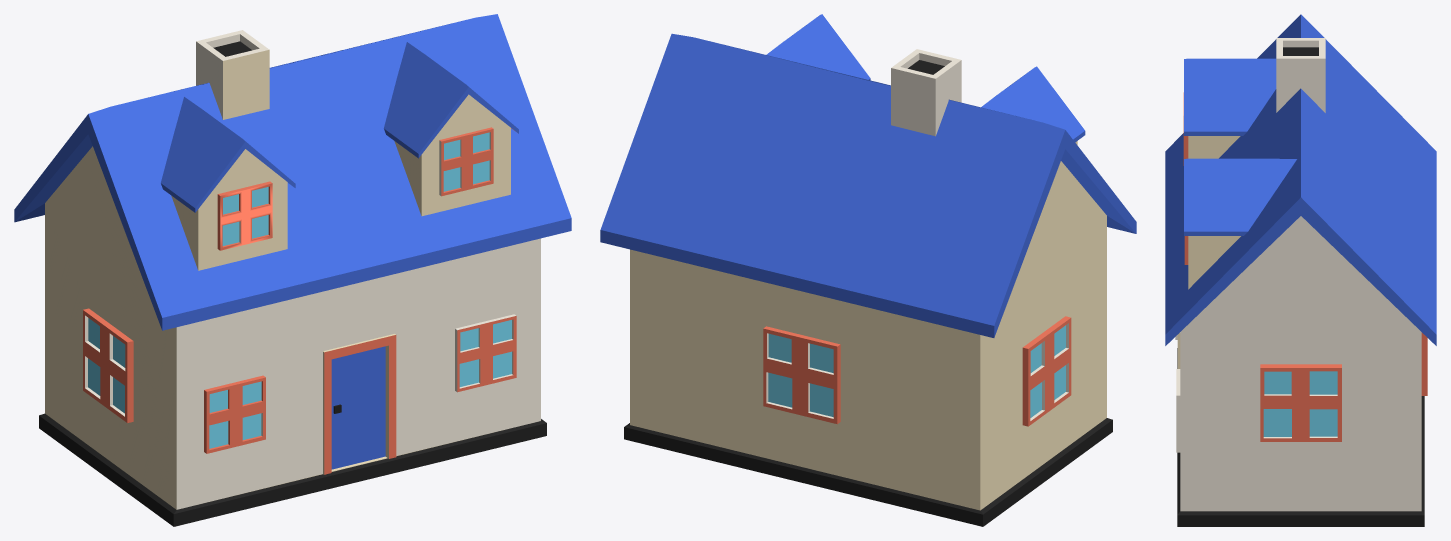
3 views of the same model, side by side, from view 1: azimuth 30°, elevation 25°; view 2: azimuth 150°, elevation 25°; view 3: azimuth 270°, elevation 25° (orthographic). The views are drawn at different scales.
Visible parts, largest first — view 1: Cube.002; view 2: Cube.002; view 3: Cube.002.
Boxes of the visible parts, box(x1,y1,x2,y2) form: Cube.002: box(14, 14, 571, 526); Cube.002: box(600, 14, 1136, 526); Cube.002: box(1165, 14, 1436, 526).
Size of the model in its own units: 1178 by 1104 by 738.
